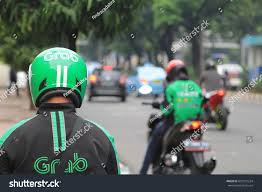helmet: (28, 47, 86, 109)
